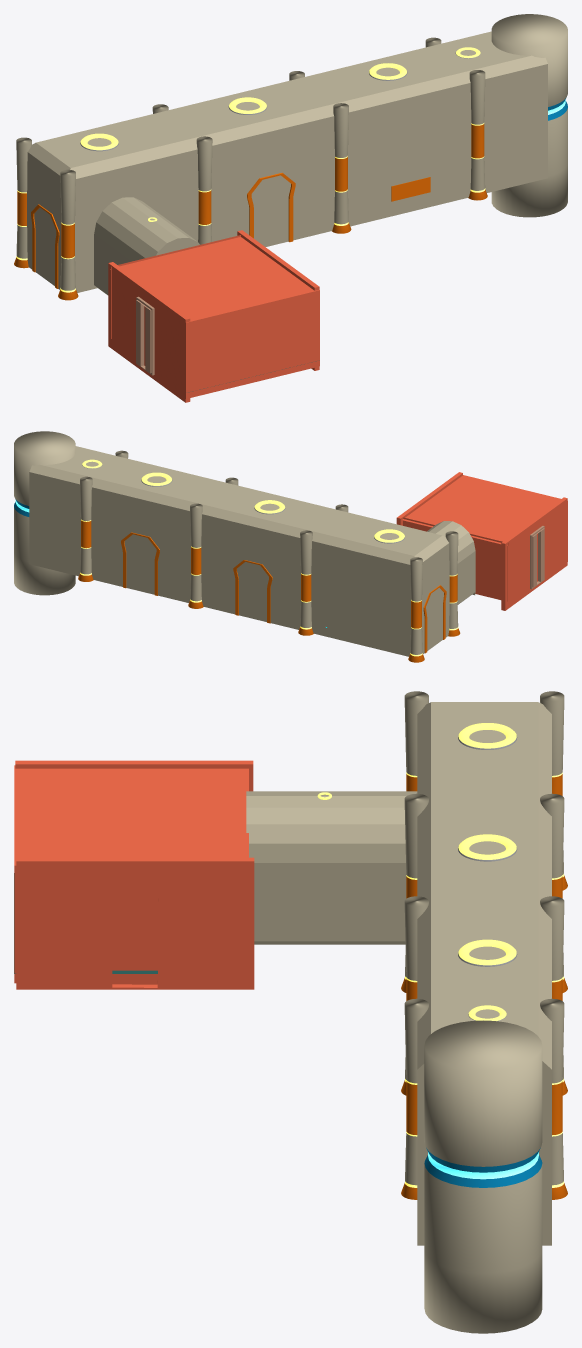
File: CouloirBureauV5.fbx
3 renders of one model, top to bottom at view 1: azimuth 30°, elevation 25°; view 2: azimuth 150°, elevation 25°; view 3: azimuth 270°, elevation 25°, orthographic. The views are drawn at different scales.
Parts seen in each view (by area): view 1: CouloirPropre, mur face, Piliers, Cylinder, mur droite, Mur sortant, Porte.001, mur gauche, Cube.040, Porte.009; view 2: CouloirPropre, Piliers, mur face, Cylinder, mur droite, mURvERScOULOIR, Mur sortant, Porte.007, Porte.005, mur gauche, Porte.009; view 3: CouloirPropre, Cylinder, mur gauche, mur face, Piliers, mur droite, Torus.006, Torus.003, Torus.004.
Part boxes in pixels (<box>): CouloirPropre: <box>27,31,547,295</box>; mur face: <box>119,237,319,398</box>; Piliers: <box>14,37,487,300</box>; Cylinder: <box>491,14,567,217</box>; mur droite: <box>108,262,190,402</box>; Mur sortant: <box>136,296,154,375</box>; Porte.001: <box>247,172,295,242</box>; mur gauche: <box>237,230,319,370</box>; Cube.040: <box>391,177,430,201</box>; Porte.009: <box>31,204,59,288</box>; CouloirPropre: <box>29,446,475,656</box>; Piliers: <box>78,450,460,662</box>; mur face: <box>402,475,567,561</box>; Cylinder: <box>14,431,75,595</box>; mur droite: <box>501,497,567,610</box>; mURvERScOULOIR: <box>403,517,508,601</box>; Mur sortant: <box>530,526,544,589</box>; Porte.007: <box>121,532,159,595</box>; Porte.005: <box>233,560,272,623</box>; mur gauche: <box>396,472,462,525</box>; Porte.009: <box>423,585,446,653</box>; CouloirPropre: <box>246,702,551,1245</box>; Cylinder: <box>424,1020,542,1333</box>; mur gauche: <box>16,857,254,989</box>; mur face: <box>14,765,248,983</box>; Piliers: <box>401,691,567,1199</box>; mur droite: <box>15,760,253,791</box>; Torus.006: <box>458,939,517,966</box>; Torus.003: <box>458,834,517,861</box>; Torus.004: <box>458,723,517,749</box>.
Size of the model in its own units: 1543 by 473 by 903.
